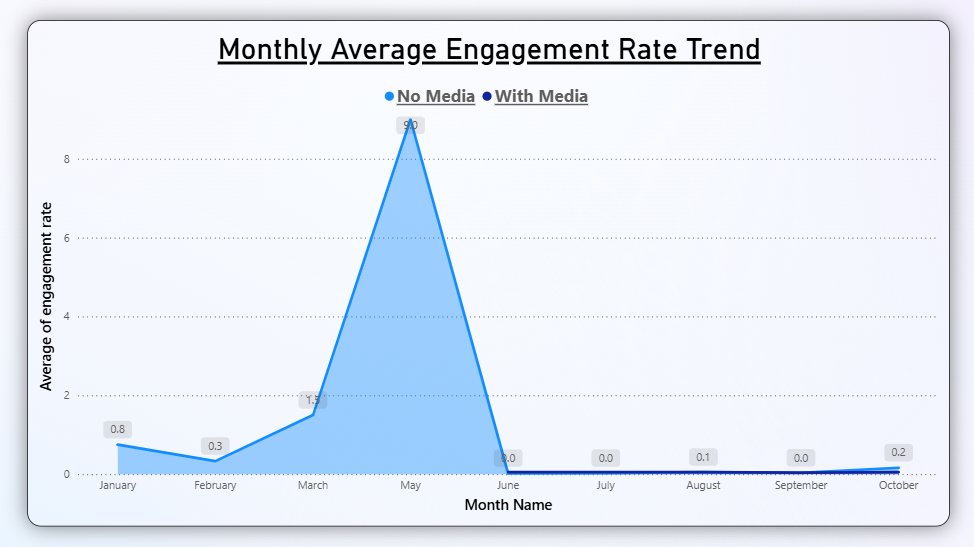

The page's visual inventory and layout, read from the dashboard file:
{"tool":"powerbi","page":{"name":"Task 5","canvas":[1280,720],"ordinal":2},"visuals":[{"type":"lineChart","title":"Monthly Engagement Rate Trend","fields":{"Series":["SocialMedia (3).Has Media"],"Category":["SocialMedia (3).Month Name"],"Y":["Avg(SocialMedia (3).engagement rate)"]},"box":[111.1,73.6,1056.9,570.8],"z":0}]}

Visuals, with their boxes in screenshot pixels (x1, y1, x2, y2), scaled from the page's 1280x720 canvas onto the 974x547 screenshot:
"Monthly Engagement Rate Trend" lineChart: bbox=[85, 56, 889, 490]
